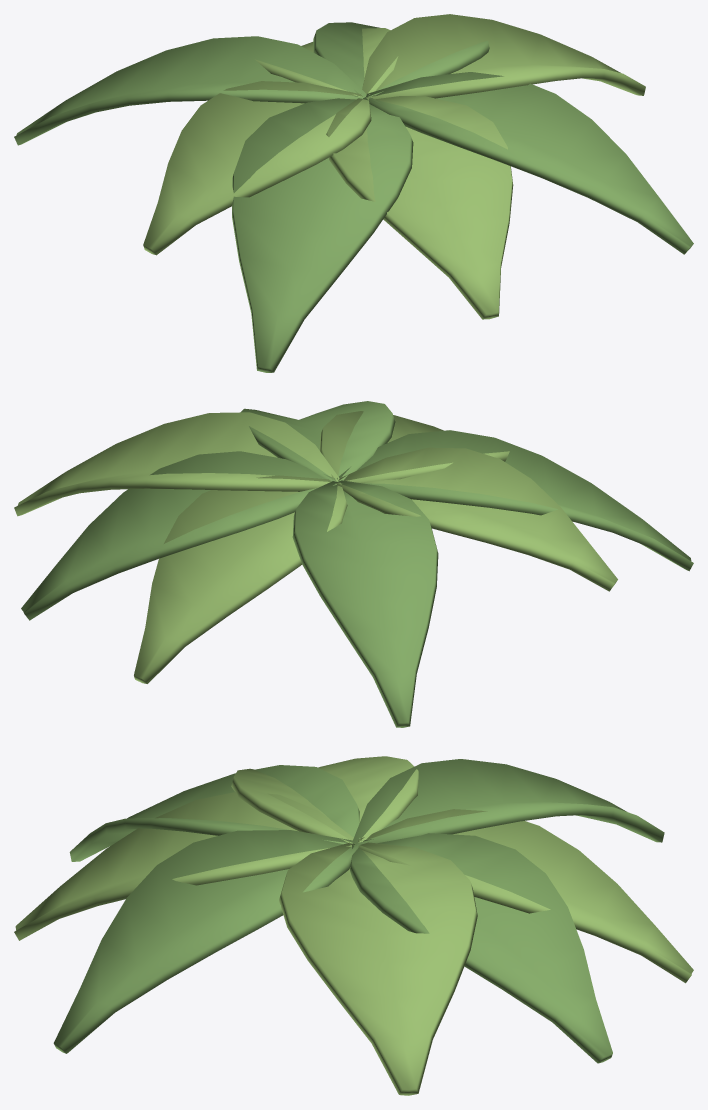
File: Plant_Low.gltf
3 renders of one model, top to bottom at view 1: azimuth 30°, elevation 25°; view 2: azimuth 150°, elevation 25°; view 3: azimuth 270°, elevation 25°, orthographic. The views are drawn at different scales.
Parts seen in each view (by area): view 1: Plant_Low; view 2: Plant_Low; view 3: Plant_Low.
Boxes of the visible parts, x1=… form: Plant_Low: x1=14, y1=14, x2=693, y2=372; Plant_Low: x1=14, y1=401, x2=693, y2=727; Plant_Low: x1=14, y1=756, x2=693, y2=1095.
Bounding box in the file's own units: 0.798 × 0.1981 × 0.7822.
